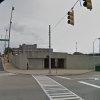Traffic light: (63, 5, 86, 35)
